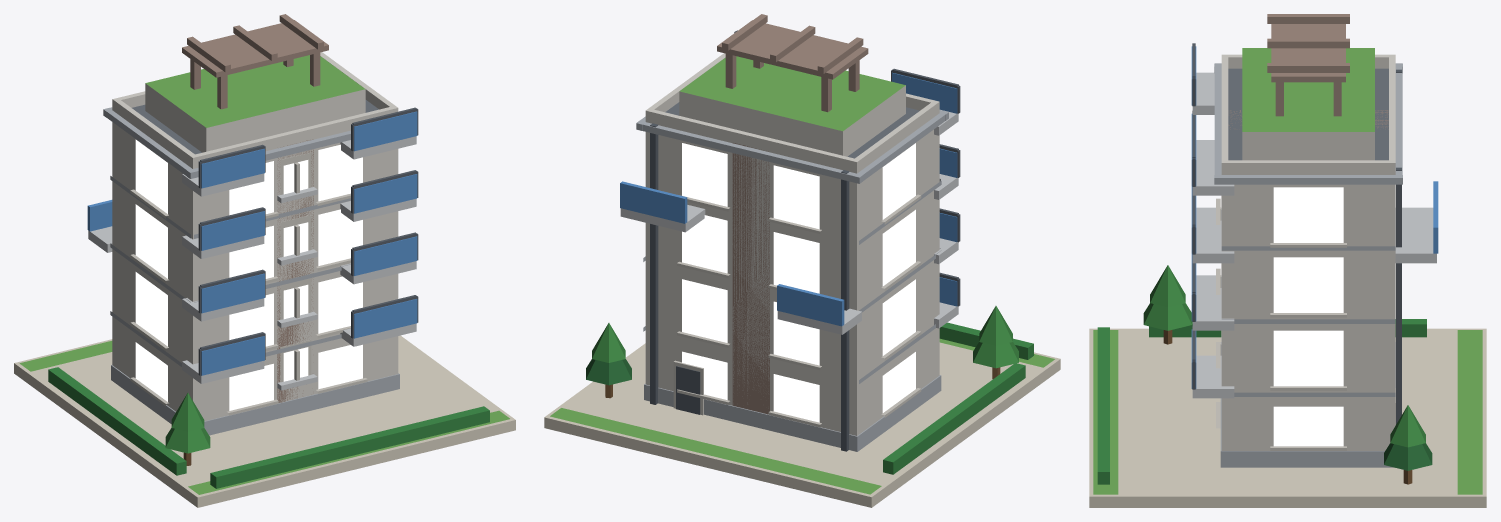
3 views of the same model, side by side, from view 1: azimuth 30°, elevation 25°; view 2: azimuth 150°, elevation 25°; view 3: azimuth 270°, elevation 25° (orthographic). The views are drawn at different scales.
Parts seen in each view (by area): view 1: b08; view 2: b08; view 3: b08.
Boxes of the visible parts, x1,y1,x2,y2 form: b08: (14,14,515,507); b08: (544,14,1060,507); b08: (1089,14,1486,507).
Size of the model in its own units: 0.96 by 1.02 by 0.96.
